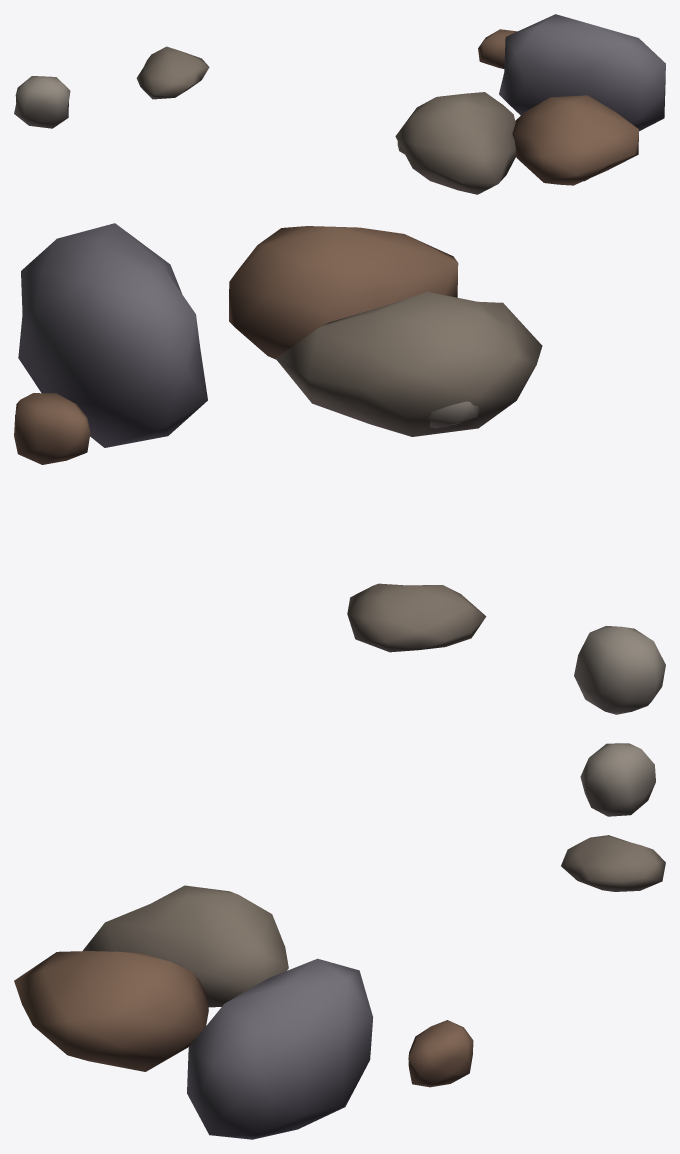
Rendered from yd_stones__219.glb.
The picture shows the model from 3 angles, top to bottom: view 1: azimuth 30°, elevation 25°; view 2: azimuth 150°, elevation 25°; view 3: azimuth 270°, elevation 25°; orthographic projection. The views are drawn at different scales.
Parts seen in each view (by area): view 1: prop_yd_stones; view 2: prop_yd_stones; view 3: prop_yd_stones.
Part boxes in pixels (box(x1,y1,x2,y2)): prop_yd_stones: box(14, 14, 665, 194); prop_yd_stones: box(14, 223, 665, 714); prop_yd_stones: box(14, 743, 665, 1139).
Size of the model in its own units: 0.8655 by 0.1653 by 0.6912.
